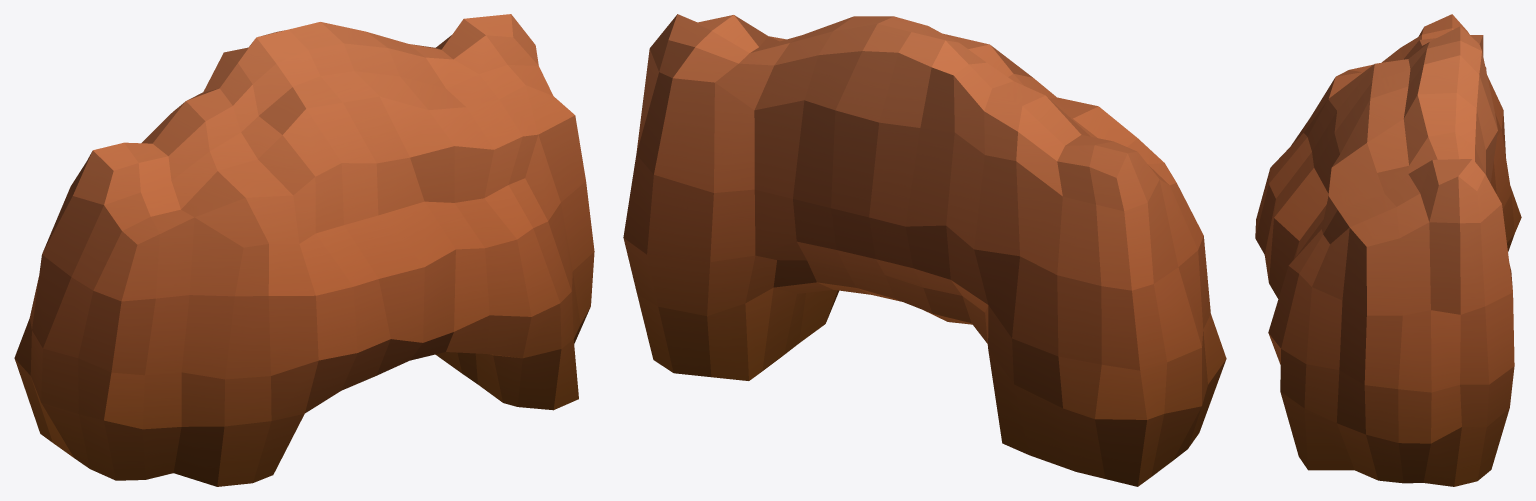
The model's file is stone_wall.fbx.
3 views of the same model, side by side, from view 1: azimuth 30°, elevation 25°; view 2: azimuth 150°, elevation 25°; view 3: azimuth 270°, elevation 25° (orthographic). The views are drawn at different scales.
Visible parts, largest first — view 1: Cube; view 2: Cube; view 3: Cube.
Boxes of the visible parts, x1,y1,x2,y2 form: Cube: (14,14,594,486); Cube: (623,14,1226,486); Cube: (1255,14,1521,486).
Size of the model in its own units: 1052 by 678 by 489.
